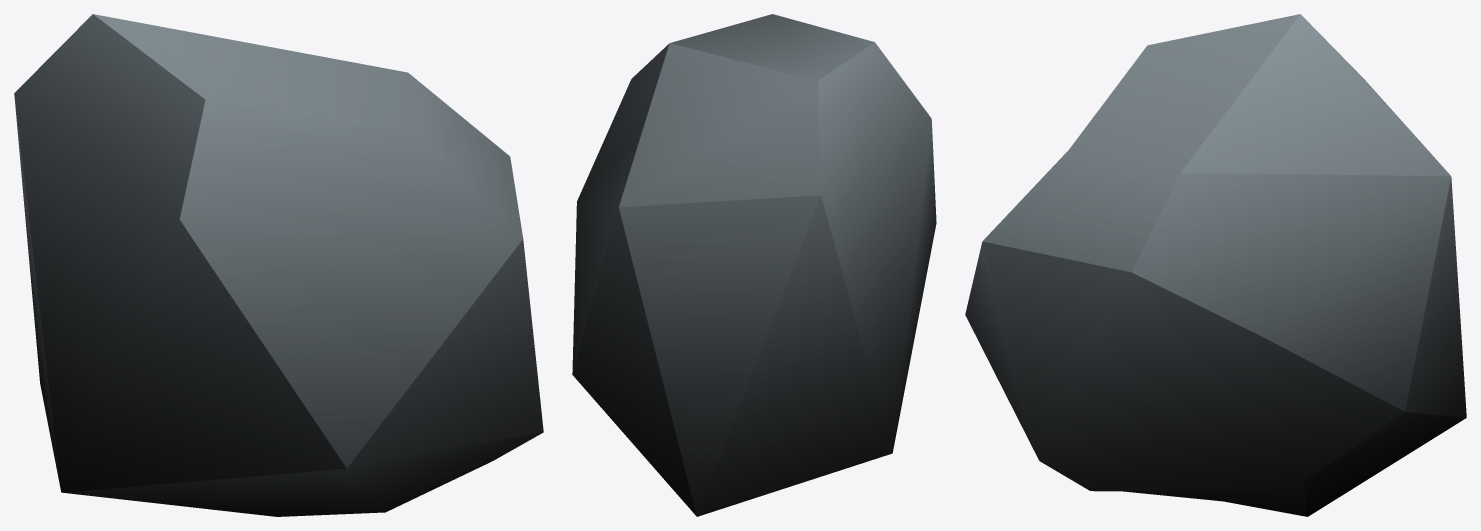
File: rock7.fbx
The picture shows the model from 3 angles, left to right: view 1: azimuth 30°, elevation 25°; view 2: azimuth 150°, elevation 25°; view 3: azimuth 270°, elevation 25°; orthographic projection. The views are drawn at different scales.
Parts seen in each view (by area): view 1: rock1; view 2: rock1; view 3: rock1.
Boxes of the visible parts, <box> form: rock1: <box>14,14,543,516</box>; rock1: <box>572,14,936,516</box>; rock1: <box>965,14,1466,516</box>.
Bounding box in the file's own units: 223 × 292 × 301.
